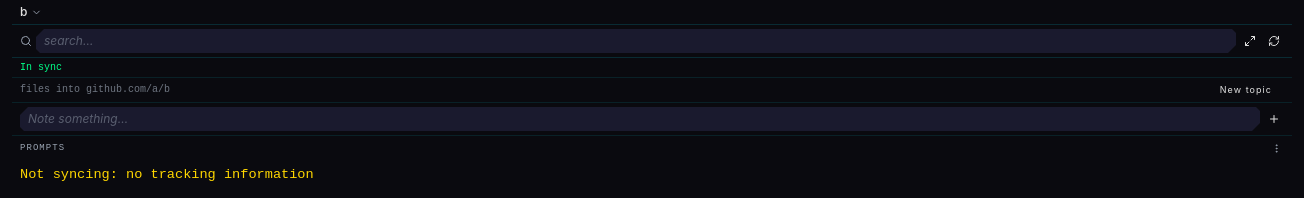
Test: managing what is in the list › keeps the file's own menu working from that same name
Click the button named "Actions for prompts" at x=1276, y=149, box [1269,143,1284,154]
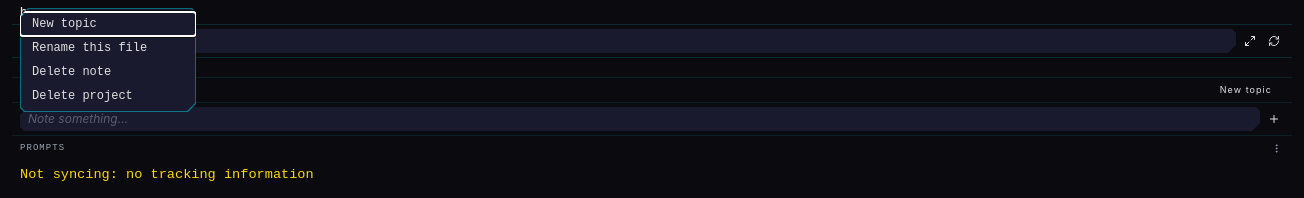
Result: the menu item "Rename this file" is shown at [20,36,196,60]
